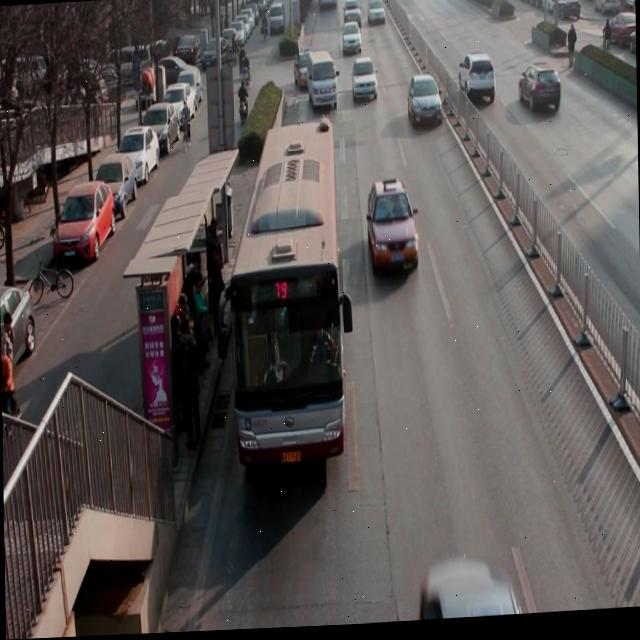car: (367, 184, 421, 280), (520, 64, 563, 119), (460, 57, 498, 114), (406, 78, 443, 132), (351, 57, 379, 107), (294, 50, 319, 93), (342, 1, 363, 34), (341, 27, 362, 58), (368, 0, 387, 30)
truck: (307, 53, 338, 114)
van: (225, 121, 342, 469), (316, 0, 336, 14)
